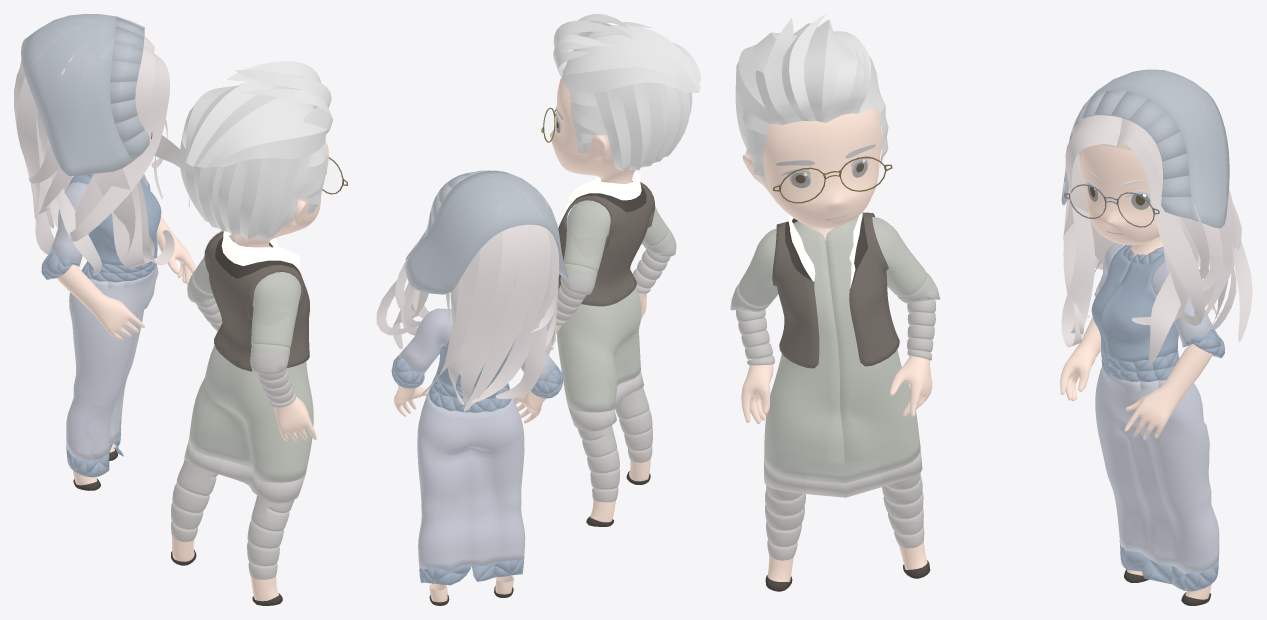
The model's file is parent.gltf.
3 renders of one model, left to right at view 1: azimuth 30°, elevation 25°; view 2: azimuth 150°, elevation 25°; view 3: azimuth 270°, elevation 25°, orthographic. The views are drawn at different scales.
Visible parts, largest first — view 1: HairMesh.010, Shirt.001, Plane.013, Plane.012, Dress.003, Coat.001, BoyBody.002, Dress.002, GirlBody.002, BoyBody.001; view 2: Dress.003, Plane.012, HairMesh.010, Shirt.001, Plane.013, Coat.001, BoyBody.002, Dress.002, BoyBody.001, GirlBody.002; view 3: Shirt.001, Dress.003, Plane.012, BoyBody.001, HairMesh.010, Plane.013, GirlBody.002, Coat.001, Dress.002, BoyBody.002.
Part boxes in pixels (box(x1,y1,x2,y2)): HairMesh.010: box(180, 61, 332, 240); Shirt.001: box(184, 230, 313, 503); Plane.013: box(21, 14, 149, 175); Plane.012: box(14, 36, 189, 275); Dress.003: box(66, 256, 158, 477); Coat.001: box(204, 231, 309, 371); BoyBody.002: box(171, 298, 296, 579); Dress.002: box(41, 173, 161, 279); GirlBody.002: box(57, 217, 196, 485); BoyBody.001: box(172, 140, 328, 601); Dress.003: box(417, 386, 525, 585); Plane.012: box(376, 190, 559, 411); HairMesh.010: box(553, 14, 701, 171); Shirt.001: box(556, 200, 676, 431); Plane.013: box(405, 170, 568, 294); Coat.001: box(558, 171, 654, 306); BoyBody.002: box(556, 249, 670, 502); Dress.002: box(391, 308, 562, 398); BoyBody.001: box(550, 76, 650, 522); GirlBody.002: box(394, 270, 545, 602); Shirt.001: box(730, 216, 940, 497); Dress.003: box(1095, 359, 1219, 591); Plane.012: box(1061, 115, 1252, 364); BoyBody.001: box(741, 107, 932, 581); HairMesh.010: box(735, 14, 888, 188); Plane.013: box(1061, 69, 1229, 228); GirlBody.002: box(1060, 143, 1212, 599); Coat.001: box(772, 212, 899, 368); Dress.002: box(1091, 243, 1224, 371); BoyBody.002: box(736, 298, 935, 560).
Size of the model in its own units: 70.14 by 203 by 169.
